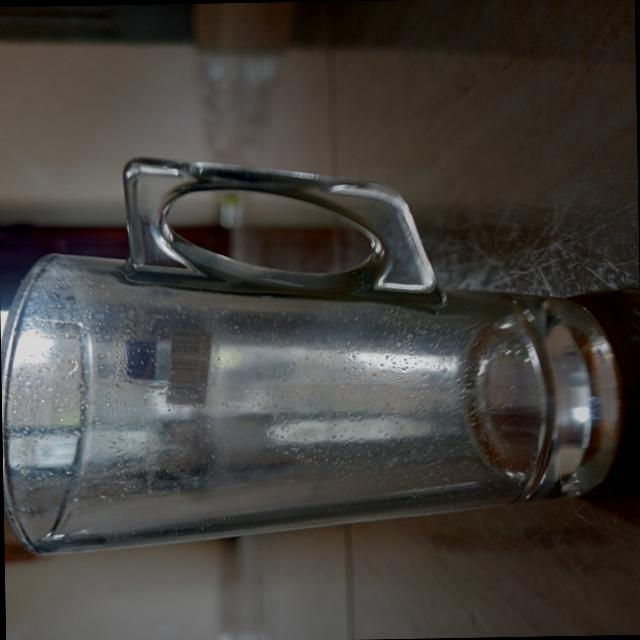glass-VX4N: (0, 146, 620, 561)
